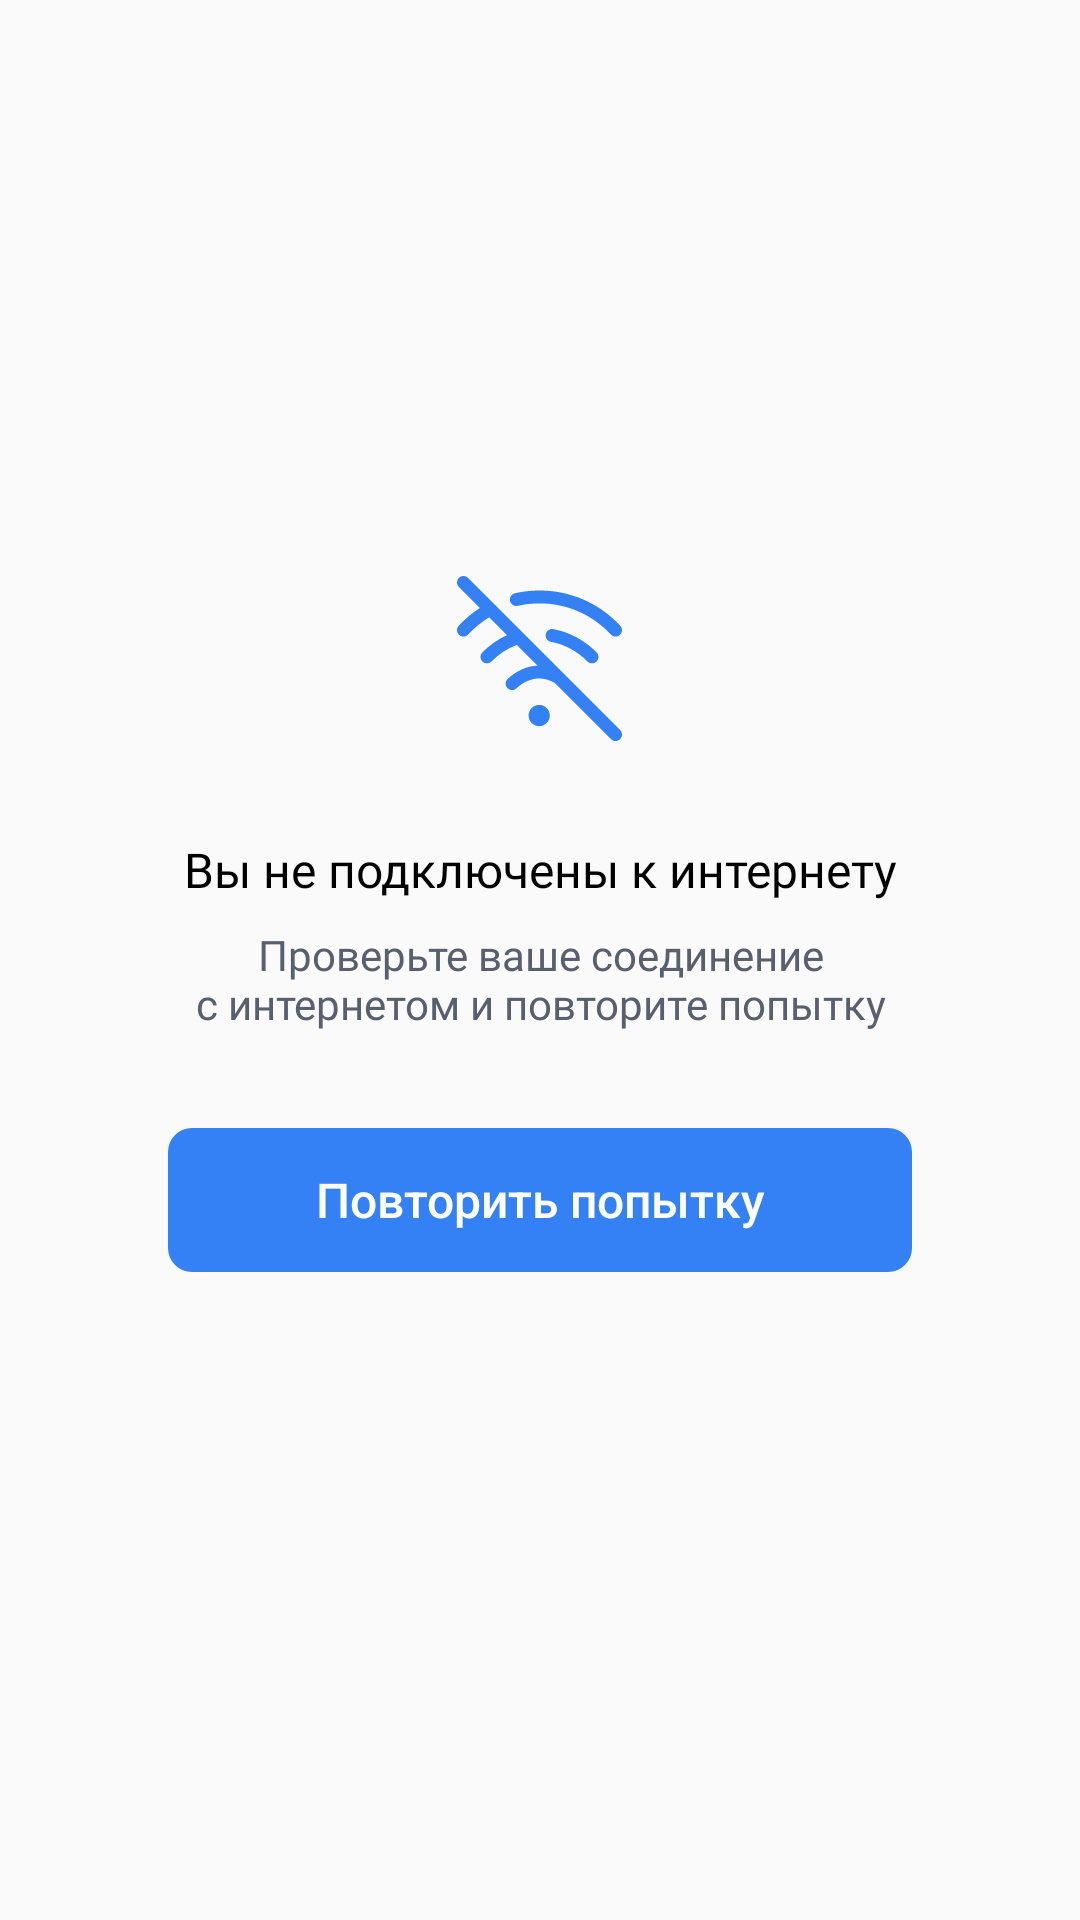

Screen size 1080w x 1920h. Icon name, then its center in pixels as (x,y):
no network: (539,658)
